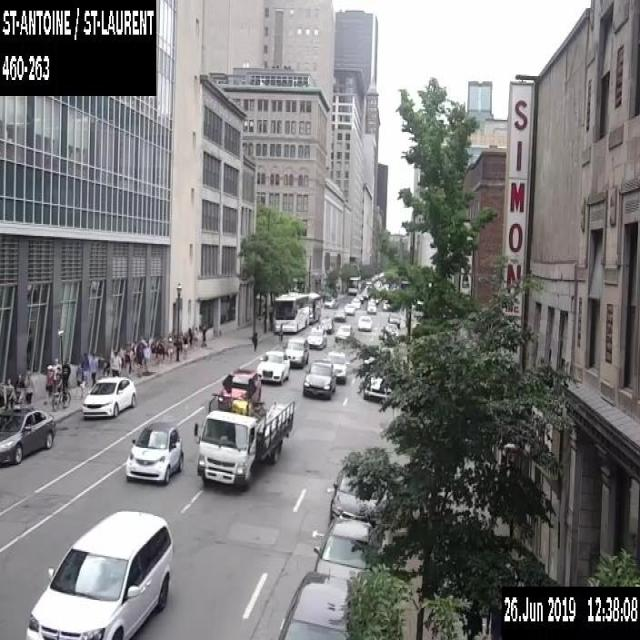bus: (272, 290, 308, 333), (308, 292, 321, 324)
pedestrian: (50, 356, 62, 396), (43, 364, 54, 403), (14, 373, 25, 407), (23, 373, 34, 407), (3, 377, 14, 409), (81, 352, 89, 386), (90, 351, 98, 385), (110, 349, 120, 376), (123, 346, 132, 376), (136, 344, 144, 376), (142, 340, 150, 372), (126, 340, 134, 372), (54, 366, 61, 401), (62, 358, 70, 388), (165, 335, 174, 361), (182, 331, 188, 354), (252, 329, 258, 352), (102, 358, 109, 376), (200, 325, 206, 345), (193, 324, 198, 347), (187, 325, 192, 348), (277, 323, 283, 340)
vehicle: (25, 508, 176, 639), (193, 372, 294, 491), (277, 570, 351, 639), (313, 516, 374, 587), (124, 421, 183, 482), (329, 467, 386, 526), (0, 406, 56, 464), (81, 372, 136, 420), (217, 368, 260, 408), (303, 358, 336, 398), (256, 349, 290, 384), (282, 336, 309, 366), (322, 350, 348, 381), (362, 375, 391, 401), (306, 327, 327, 348), (334, 324, 354, 341), (347, 275, 361, 294), (318, 317, 334, 332), (383, 322, 398, 338), (357, 314, 372, 330), (324, 296, 338, 308), (333, 308, 346, 320), (388, 312, 400, 325), (351, 296, 361, 308), (344, 302, 354, 314), (366, 301, 376, 313), (355, 292, 363, 302), (361, 288, 369, 297), (383, 299, 390, 309), (370, 296, 378, 303)
